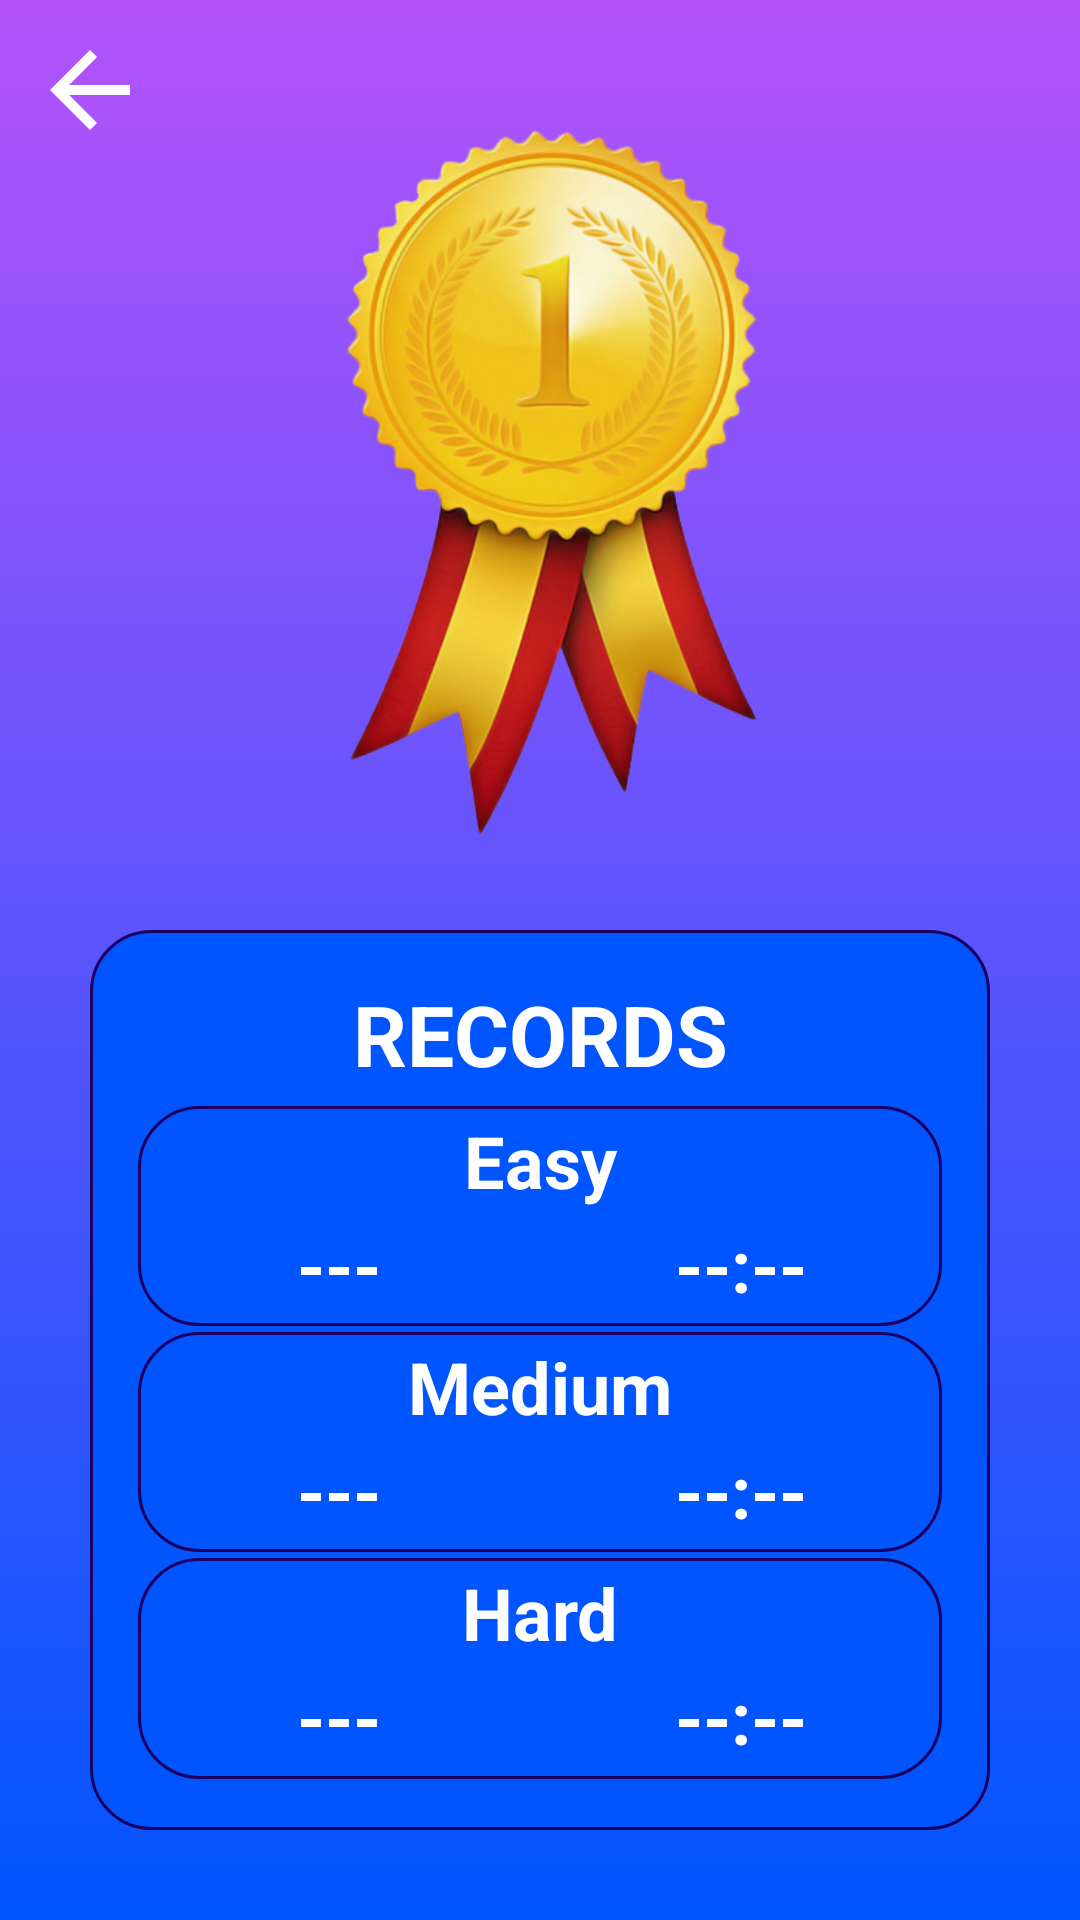

Point at icon controls on the screen. Image size 1080px x 1920px, points as (x,y).
arrow back: (90,90)
